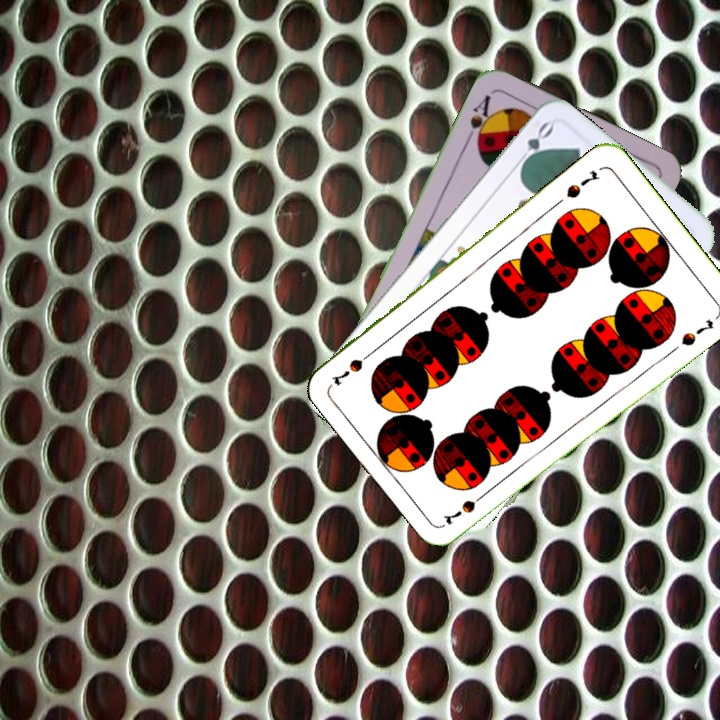GO: (511, 117, 556, 172)
S7: (440, 487, 491, 528), (562, 166, 603, 201)
SA: (462, 91, 498, 149)
